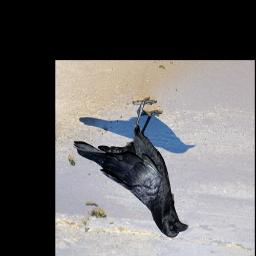Crow: (73, 97, 189, 238)
